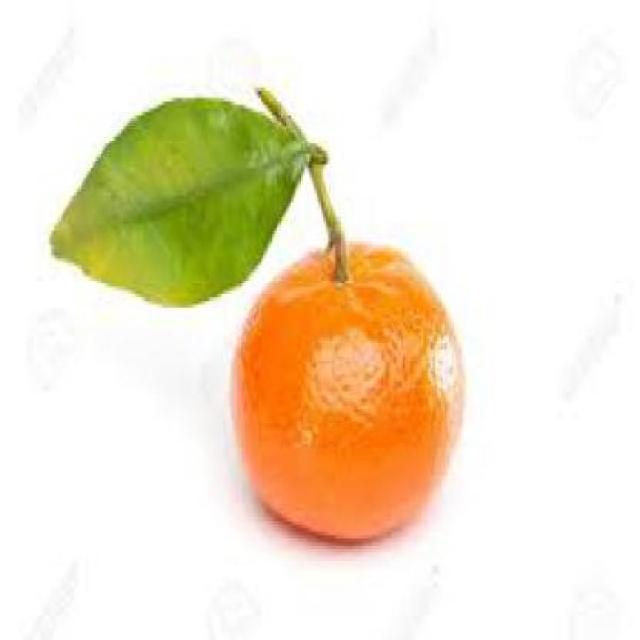BIODEGRADABLE: (230, 234, 465, 546), (46, 88, 314, 308)
